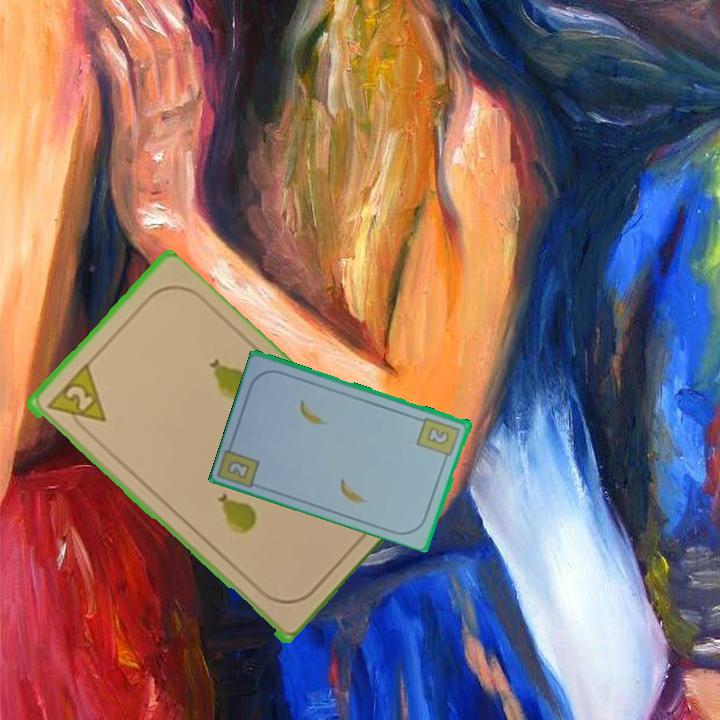2b: (414, 413, 463, 464), (224, 457, 253, 482)
2p: (42, 361, 109, 438)
